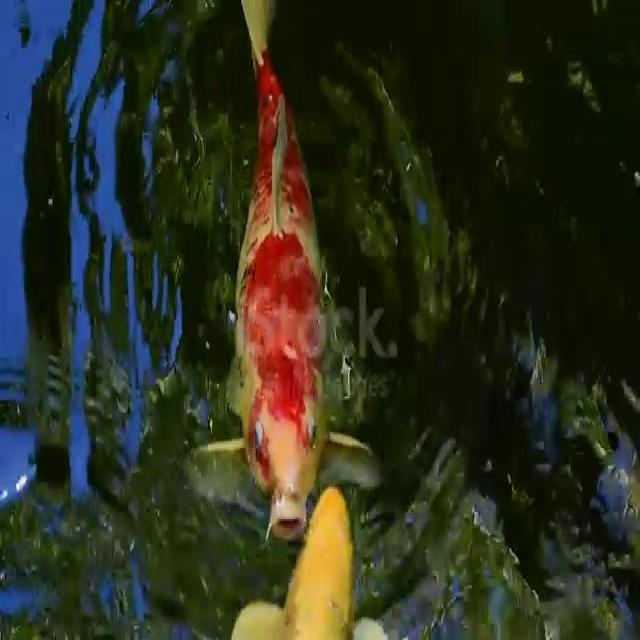fish: (198, 0, 332, 539), (239, 489, 364, 640)
